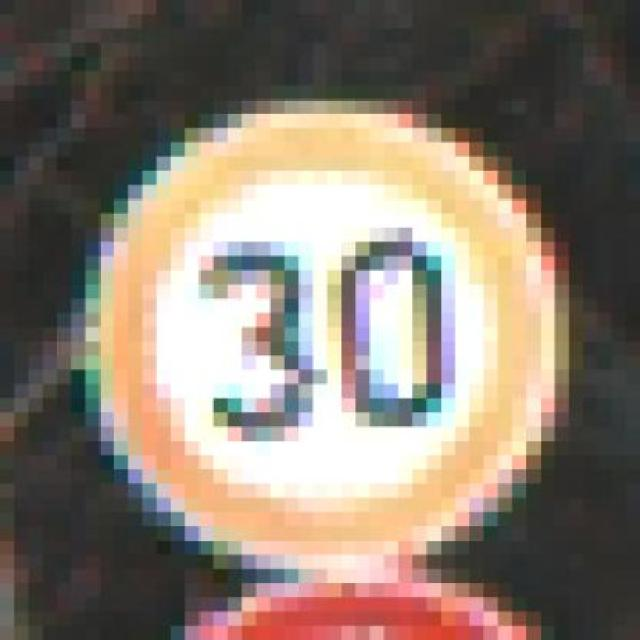Speed Limit 30 KMPh: (57, 85, 626, 583)
